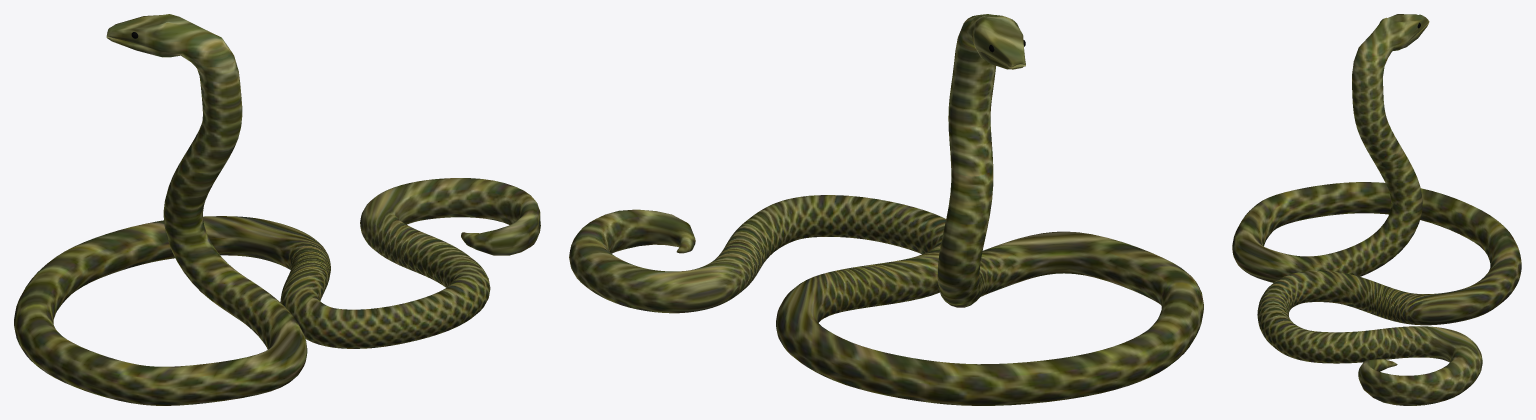
The model's file is snek.glb.
3 views of the same model, side by side, from view 1: azimuth 30°, elevation 25°; view 2: azimuth 150°, elevation 25°; view 3: azimuth 270°, elevation 25° (orthographic). The views are drawn at different scales.
Visible parts, largest first — view 1: pCube2; view 2: pCube2; view 3: pCube2.
Part boxes in pixels (box(x1,y1,x2,y2)): pCube2: box(14, 14, 540, 405); pCube2: box(569, 14, 1203, 405); pCube2: box(1232, 14, 1521, 405).
Size of the model in its own units: 0.1538 by 0.0857 by 0.0921.
2 materials, 1 textured.
